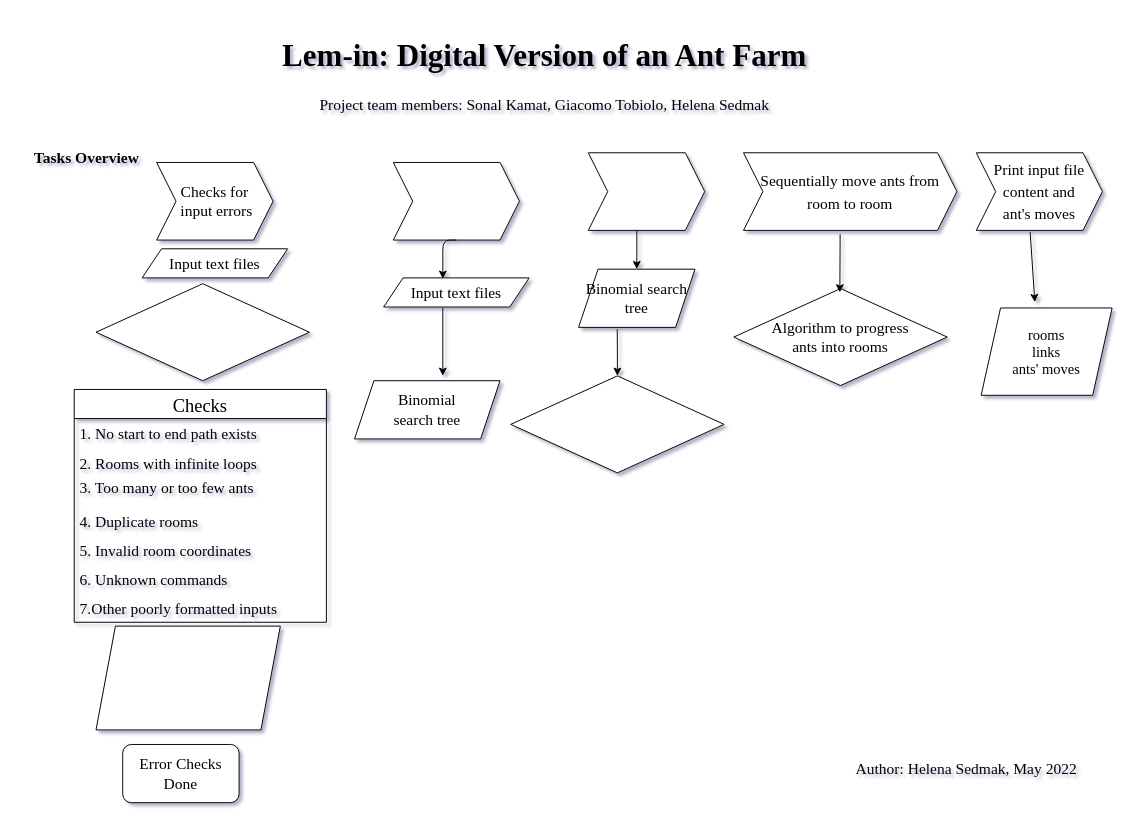
The diagram is 1135 pixels wide and 825 high, and some of its shapes have lost their labels. Each missing label, with the centre of its shape:
"Bredth First Search to select optimal paths" belongs at point 617,424.
"Either: Output error message or: Program continues" belongs at point 187,677.
"Formulas to check bad input data and unknown commands" belongs at point 202,332.
"Identify the shortest path" belongs at point 646,191.
"Make a graph of rooms and tunnels" belongs at point 455,201.
